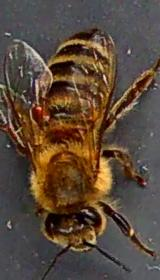varroa_mite: (27, 98, 55, 127)
